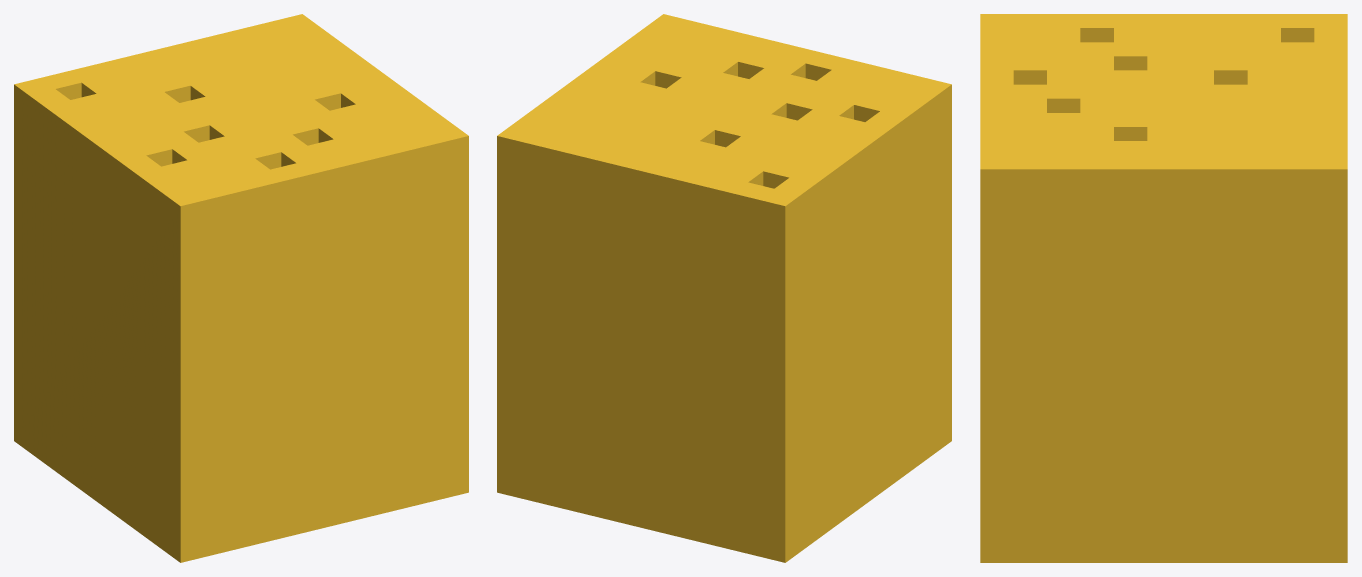
The model's file is cheese_brick.obj.
3 renders of one model, left to right at view 1: azimuth 30°, elevation 25°; view 2: azimuth 150°, elevation 25°; view 3: azimuth 270°, elevation 25°, orthographic. The views are drawn at different scales.
Size of the model in its own units: 1.1 by 1.3 by 1.1.
Materials: 1 (1 with a texture image).
